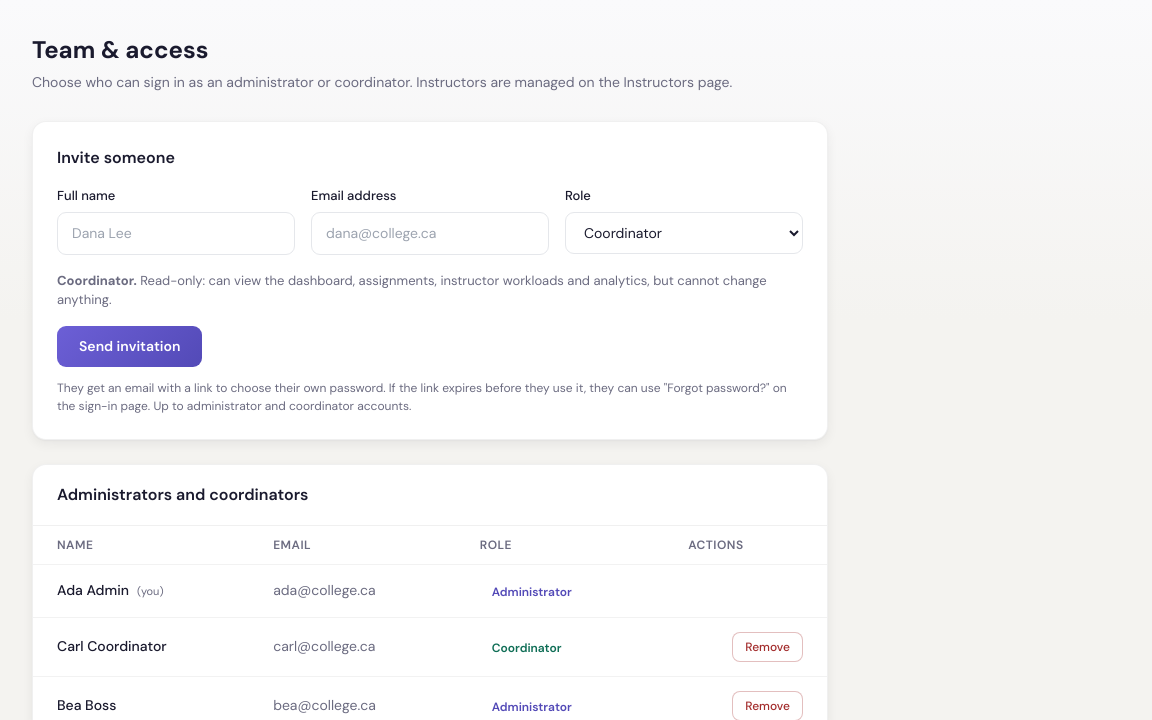
Test: AdminTeam › inviting › explains what each role can do as it is selected
Expected: the text "Carl Coordinator" is shown, [33,617,249,676]
Expected: the text "Read-only: can view the dashboard" is shown, [57,272,767,308]
Select "Administrator" in the dropdown labelled "Role" at [684, 232], box [565,212,803,254]
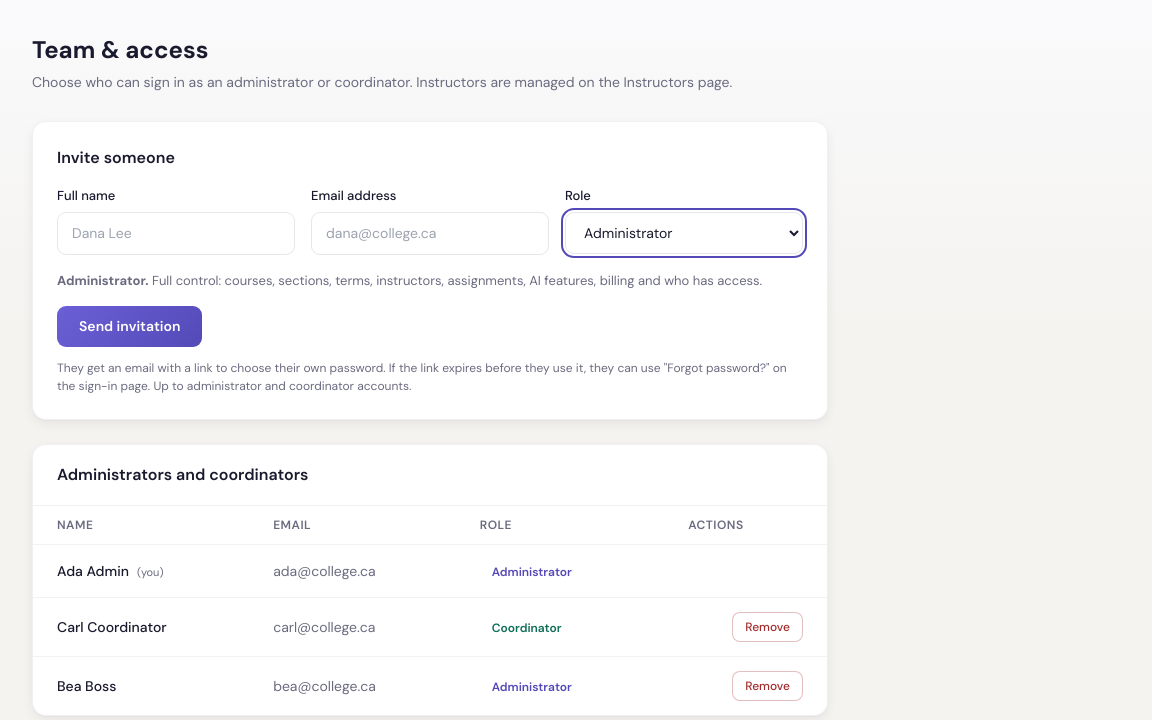
Result: the text "Full control: courses, sections" is shown at [152,272,762,288]
